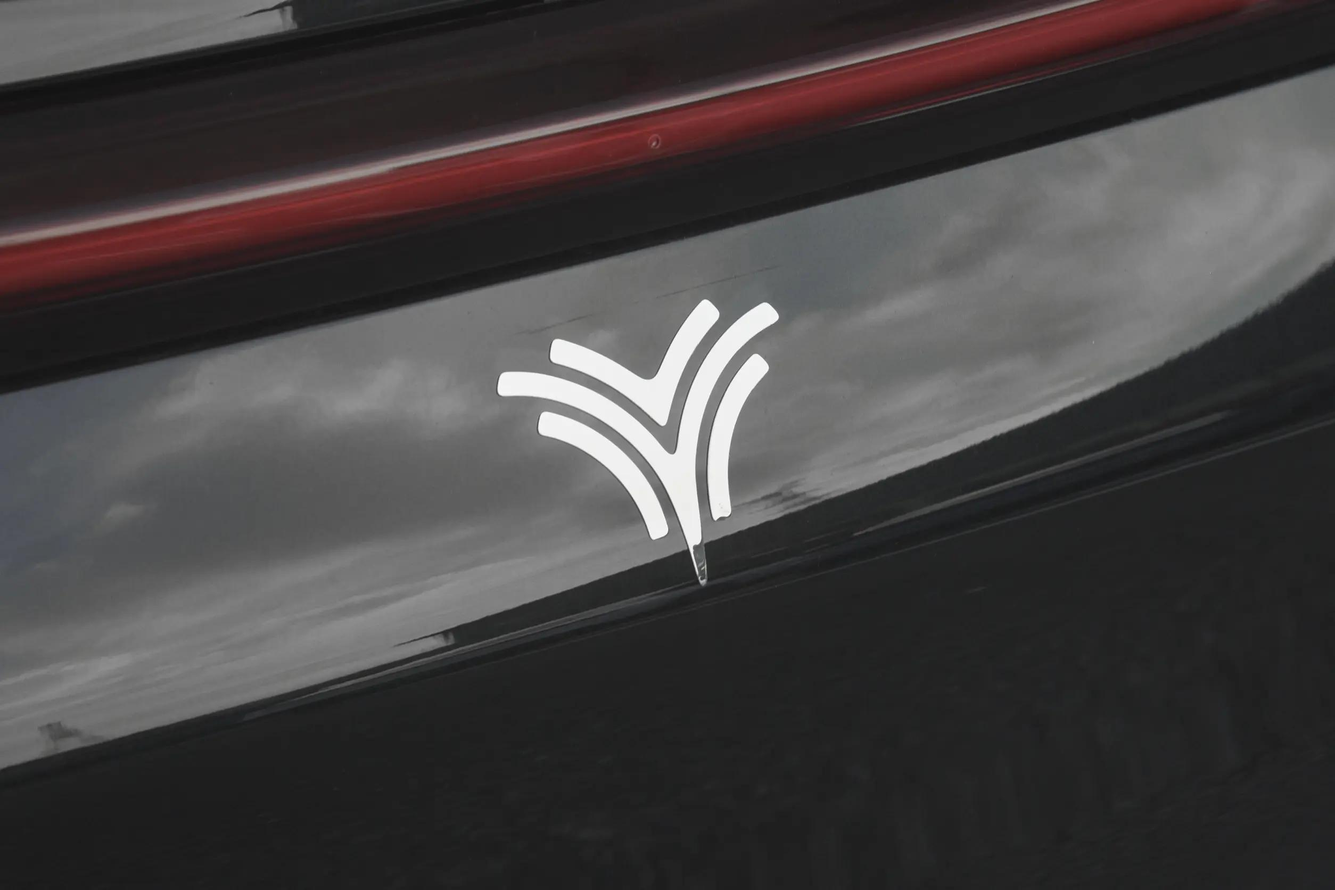NETA: (492, 294, 780, 589)
